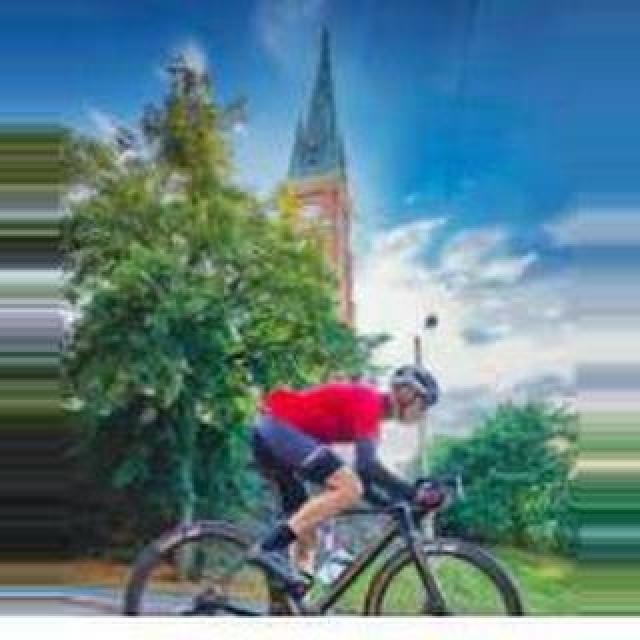MC-Bike: (246, 368, 446, 608)
Person: (125, 462, 529, 616), (145, 191, 149, 195)
